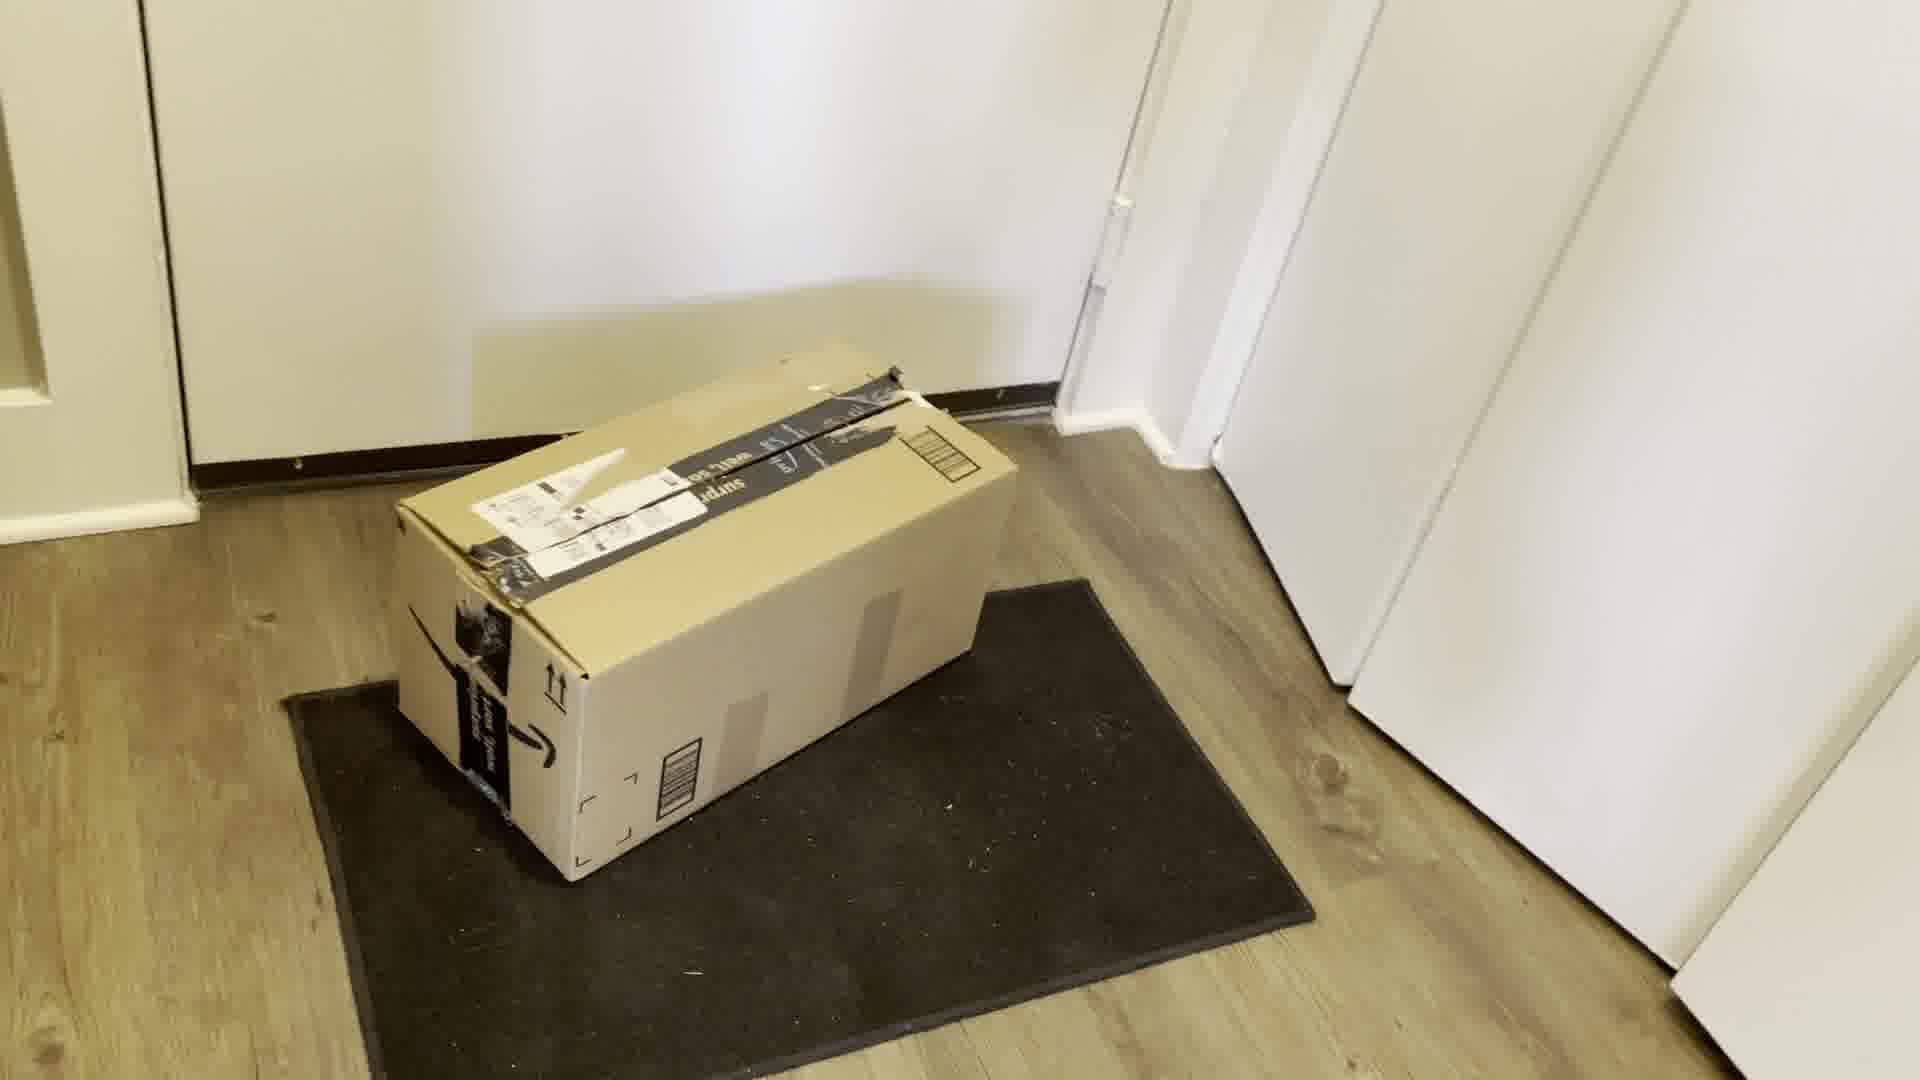box: (363, 327, 1011, 891)
